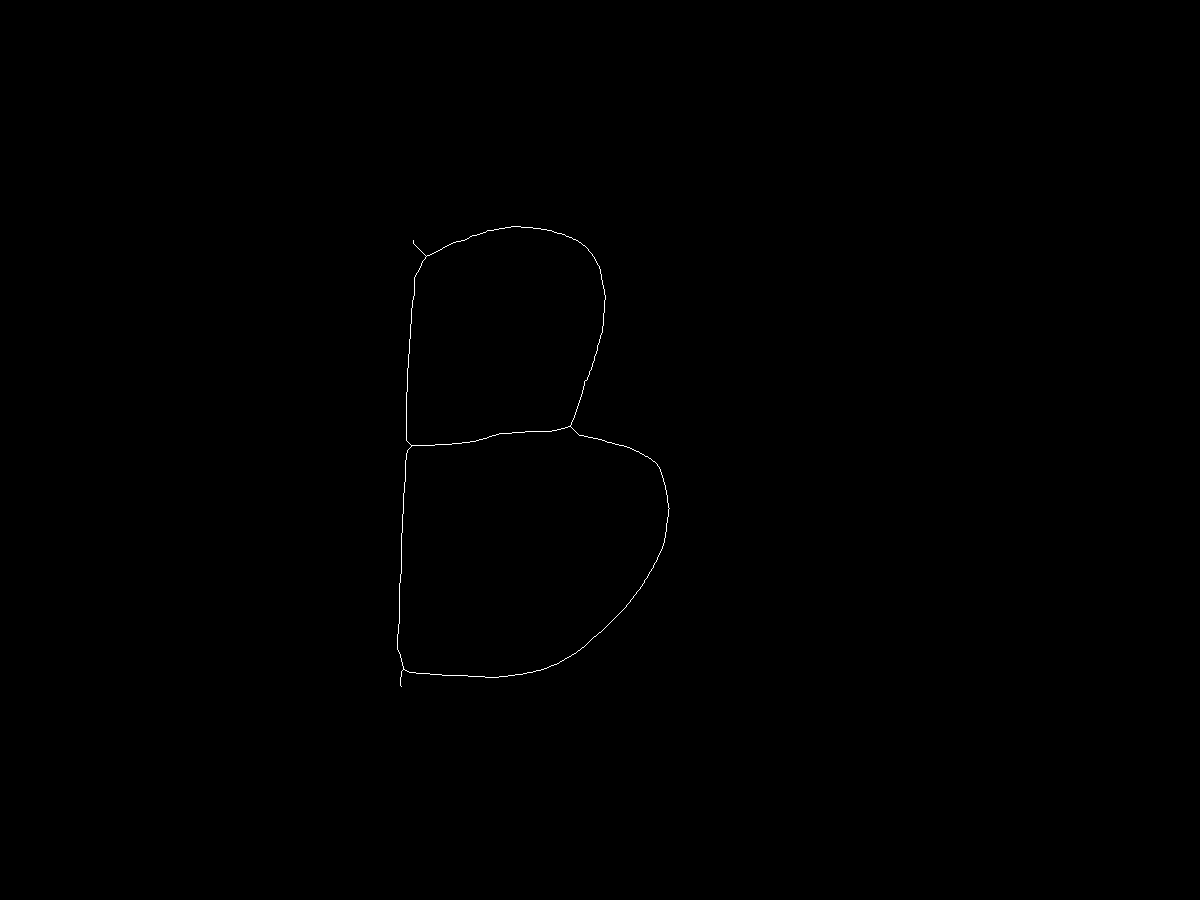dian1: (416, 249, 435, 268)
dian2: (399, 438, 420, 459)
dian3: (389, 658, 407, 676)
dian4: (567, 421, 581, 435)
